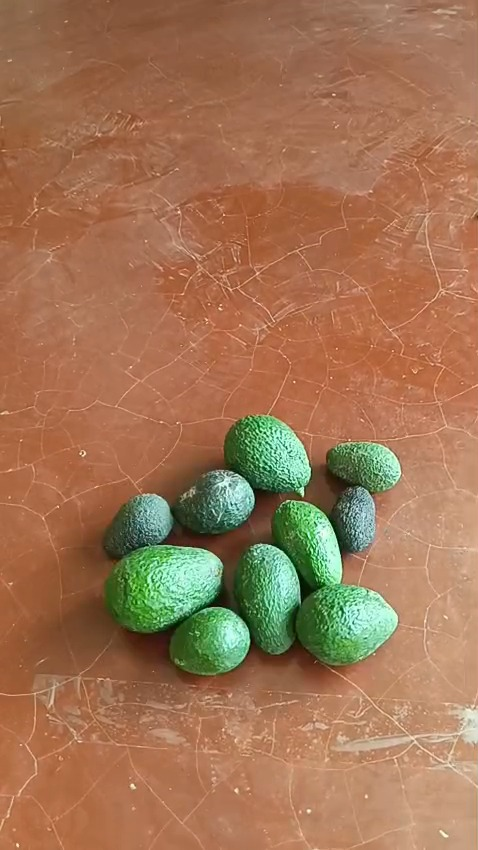Primera: (104, 543, 224, 631), (293, 581, 398, 665), (222, 413, 312, 494)
Segunda: (233, 543, 302, 655), (271, 498, 342, 591), (171, 468, 255, 535)
Tercera: (168, 607, 250, 676), (102, 492, 174, 559), (325, 439, 402, 492), (331, 484, 378, 552)
